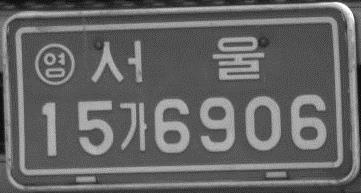0: (244, 95, 283, 152)
1: (38, 100, 62, 160)
5: (75, 99, 115, 156)
6: (290, 93, 328, 151), (153, 96, 190, 154)
9: (198, 96, 238, 154)
가: (118, 100, 149, 154)
서울_D: (89, 33, 265, 84)
영: (33, 40, 77, 86)
